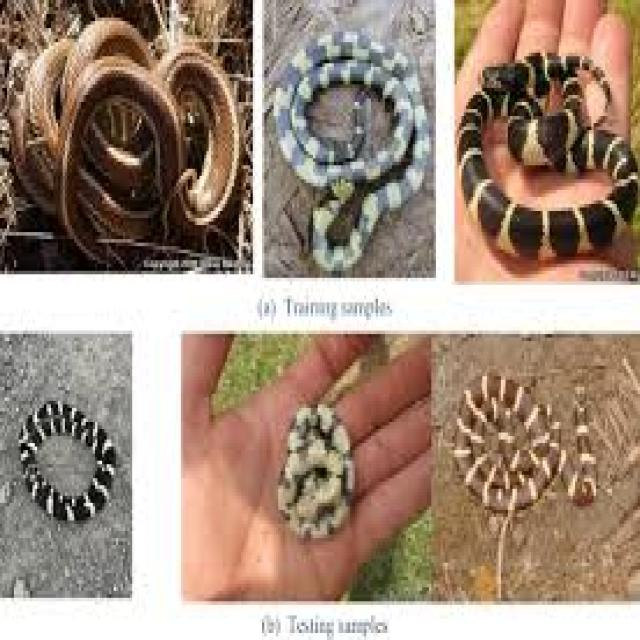Snake: (12, 17, 244, 262), (269, 25, 435, 260), (458, 49, 636, 255)
